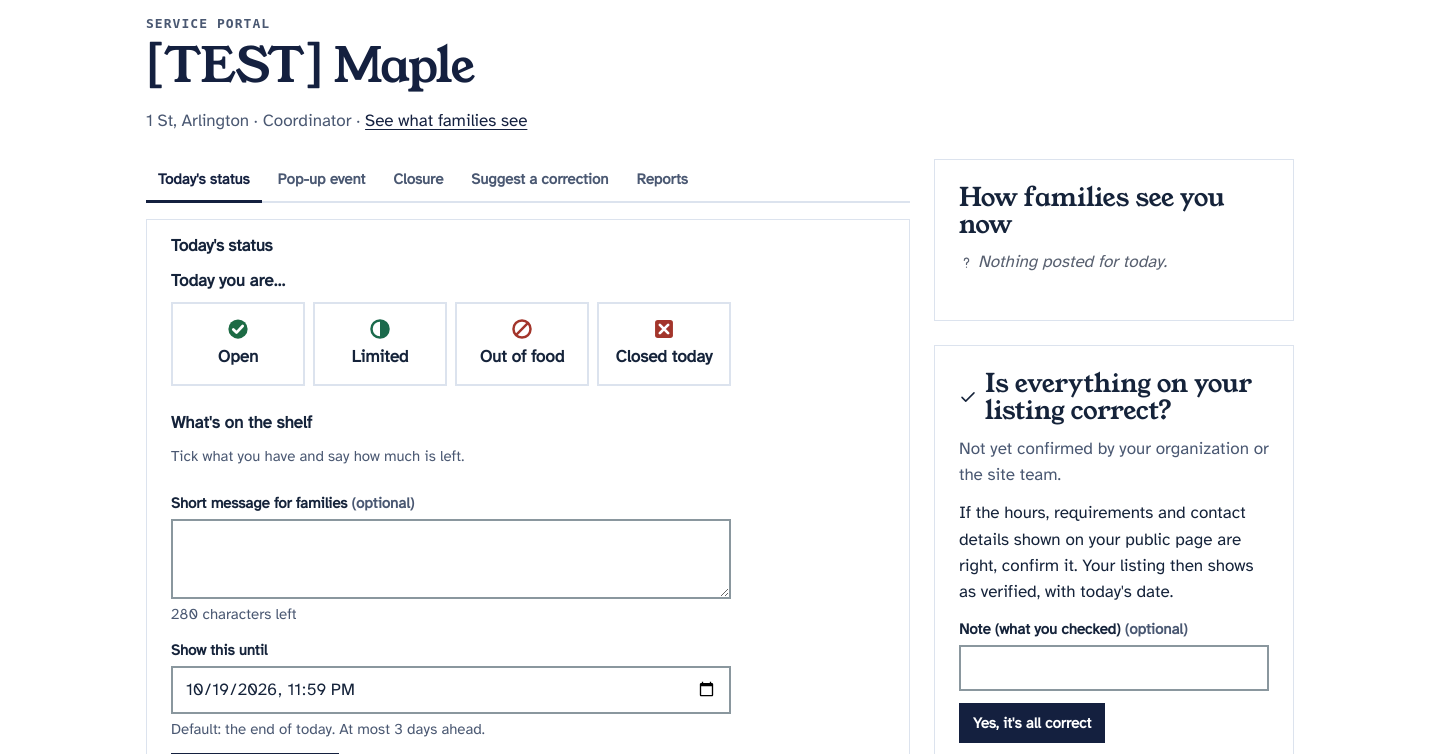
Scenario: provider portal: dashboard › shows a clear message when confirmation is blocked by pending corrections
The width and height of the screenshot is (1440, 754).
Click the button "Yes, it's all correct". click: (1032, 723)
box: [959, 703, 1106, 743]
(page scrolled)
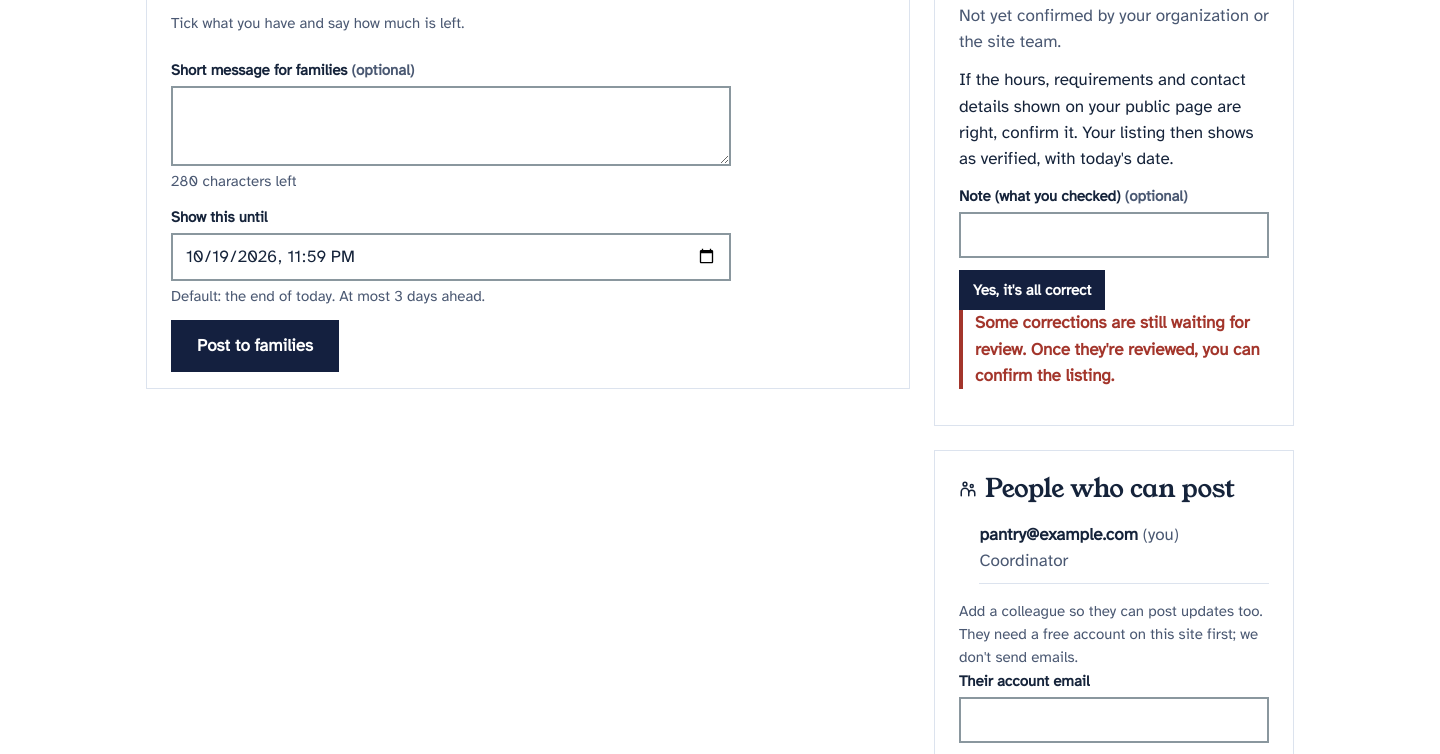
Check: the text "Some corrections are still waiting for review" is shown, box [975, 312, 1260, 386]
